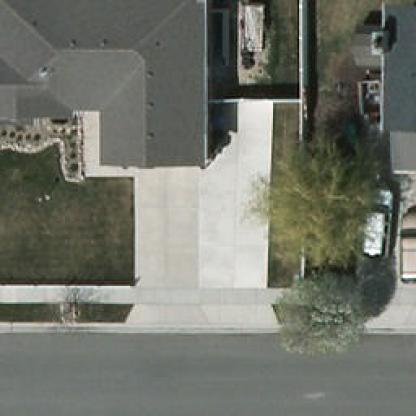car: (350, 186, 394, 262), (398, 208, 414, 284)
